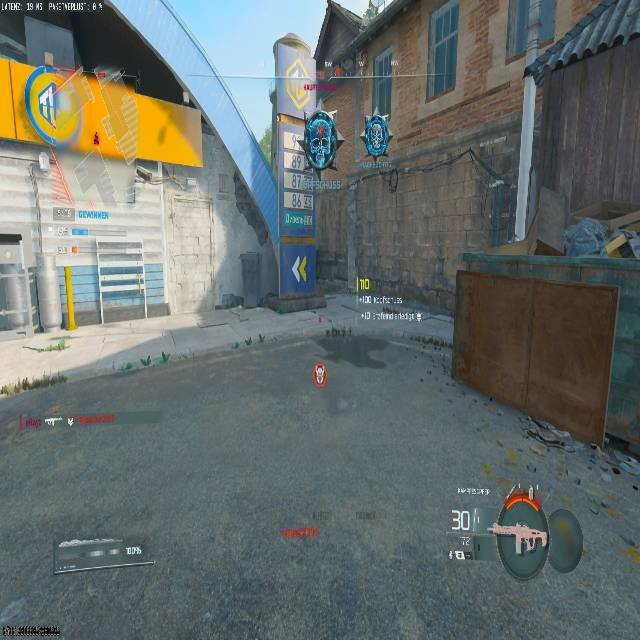player: (302, 105, 335, 180)
